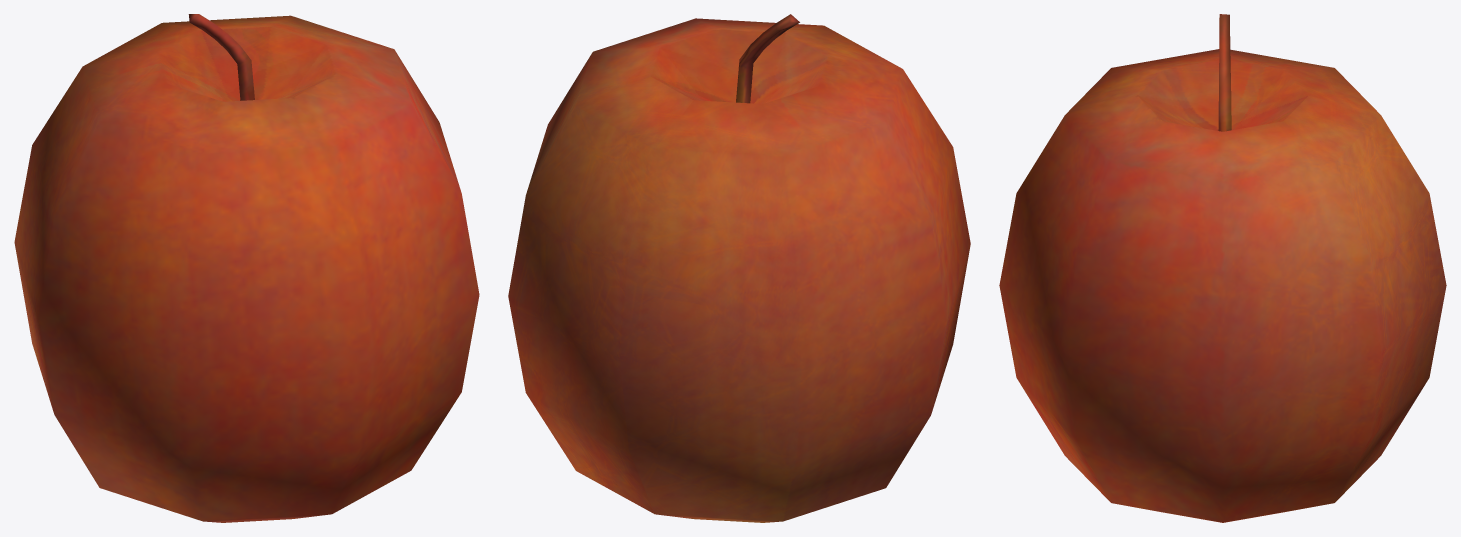
File: apple.glb
The picture shows the model from 3 angles, left to right: view 1: azimuth 30°, elevation 25°; view 2: azimuth 150°, elevation 25°; view 3: azimuth 270°, elevation 25°; orthographic projection. The views are drawn at different scales.
Parts seen in each view (by area): view 1: Sphere; view 2: Sphere; view 3: Sphere.
Boxes of the visible parts, x1,y1,x2,y2 form: Sphere: [14, 14, 479, 522]; Sphere: [508, 14, 970, 522]; Sphere: [999, 14, 1446, 522].
Size of the model in its own units: 0.5 by 0.5556 by 0.5.
Materials: 1 (1 with a texture image).
